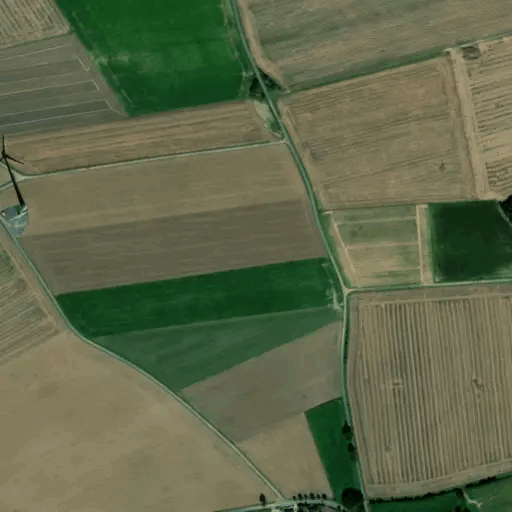wt: (1, 127, 51, 238)
